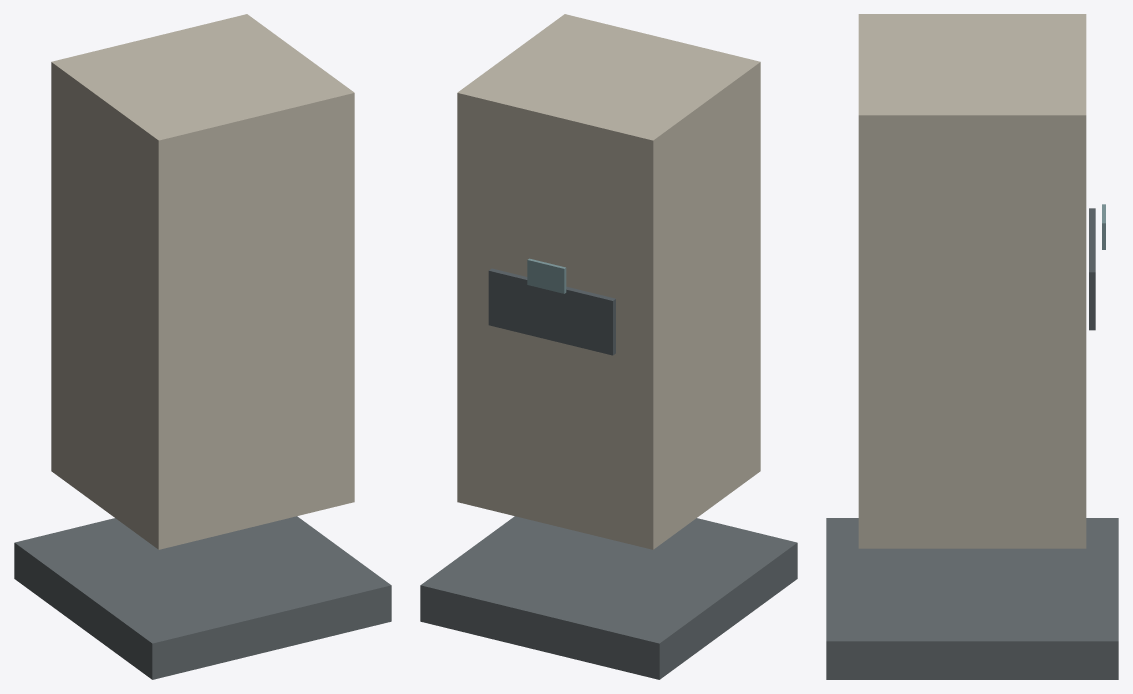
Rendered from iz3_environment_plane_tree_01.glb.
3 views of the same model, side by side, from view 1: azimuth 30°, elevation 25°; view 2: azimuth 150°, elevation 25°; view 3: azimuth 270°, elevation 25° (orthographic). The views are drawn at different scales.
Visible parts, largest first — view 1: cabinet, base; view 2: cabinet, base, panel, display; view 3: cabinet, base, panel.
Part boxes in pixels (box(x1,y1,x2,y2)): cabinet: box(51, 14, 354, 549); base: box(14, 516, 391, 679); cabinet: box(457, 14, 760, 549); base: box(420, 516, 797, 679); panel: box(488, 268, 615, 355); display: box(527, 258, 566, 293); cabinet: box(858, 14, 1086, 548); base: box(826, 518, 1118, 679); panel: box(1089, 208, 1095, 330).
Size of the model in its own units: 2.2 by 4.6 by 2.2.
